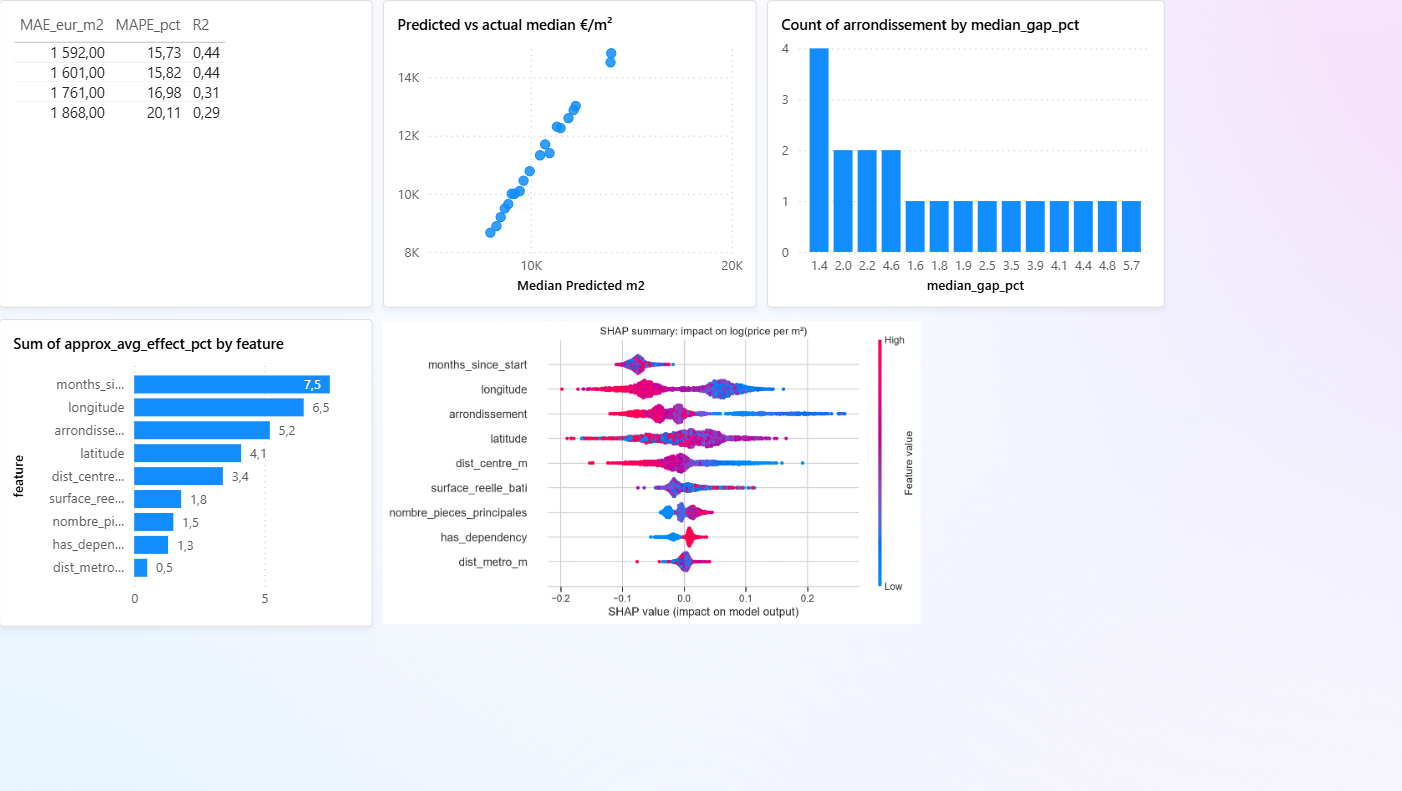

This screenshot's page, from the dashboard's own definition file:
{"tool":"powerbi","page":{"name":"Model insights","canvas":[1280,720],"ordinal":3},"visuals":[{"type":"clusteredBarChart","fields":{"Category":["SHAP Importance.feature"],"Y":["Sum(SHAP Importance.approx_avg_effect_pct)"]},"box":[0,290.2,340.2,280.2],"z":1000},{"type":"scatterChart","title":"Predicted vs actual median €/m²","fields":{"X":["_Measures (2).Median Predicted m2"],"Y":["_Measures (2).Median Price m2"],"Category":["Arrondissement.label"]},"box":[349.3,0,340.2,280.2],"z":2000},{"type":"clusteredColumnChart","fields":{"Y":["CountNonNull(Model Gap.arrondissement)"],"Category":["Model Gap.median_gap_pct"]},"box":[698.7,0,362.1,280.2],"z":2001},{"type":"image","box":[349.3,272.9,489.4,314.8],"z":2002},{"type":"tableEx","fields":{"Values":["Model Metrics.MAE_eur_m2","Model Metrics.MAPE_pct","Model Metrics.R2"]},"box":[0,0,340,280],"z":2003}]}

Visuals, with their boxes in screenshot pixels (x1, y1, x2, y2), scaled from the page's 1280x720 canvas onto the 1402x791 screenshot:
clusteredBarChart - SHAP Importance.feature x Sum(SHAP Importance.approx_avg_effect_pct): crop(0, 319, 373, 627)
"Predicted vs actual median €/m²" scatterChart: crop(383, 0, 755, 308)
clusteredColumnChart - CountNonNull(Model Gap.arrondissement) x Model Gap.median_gap_pct: crop(765, 0, 1162, 308)
image: crop(383, 300, 919, 646)
tableEx - Model Metrics.MAE_eur_m2 x Model Metrics.MAPE_pct: crop(0, 0, 372, 308)
